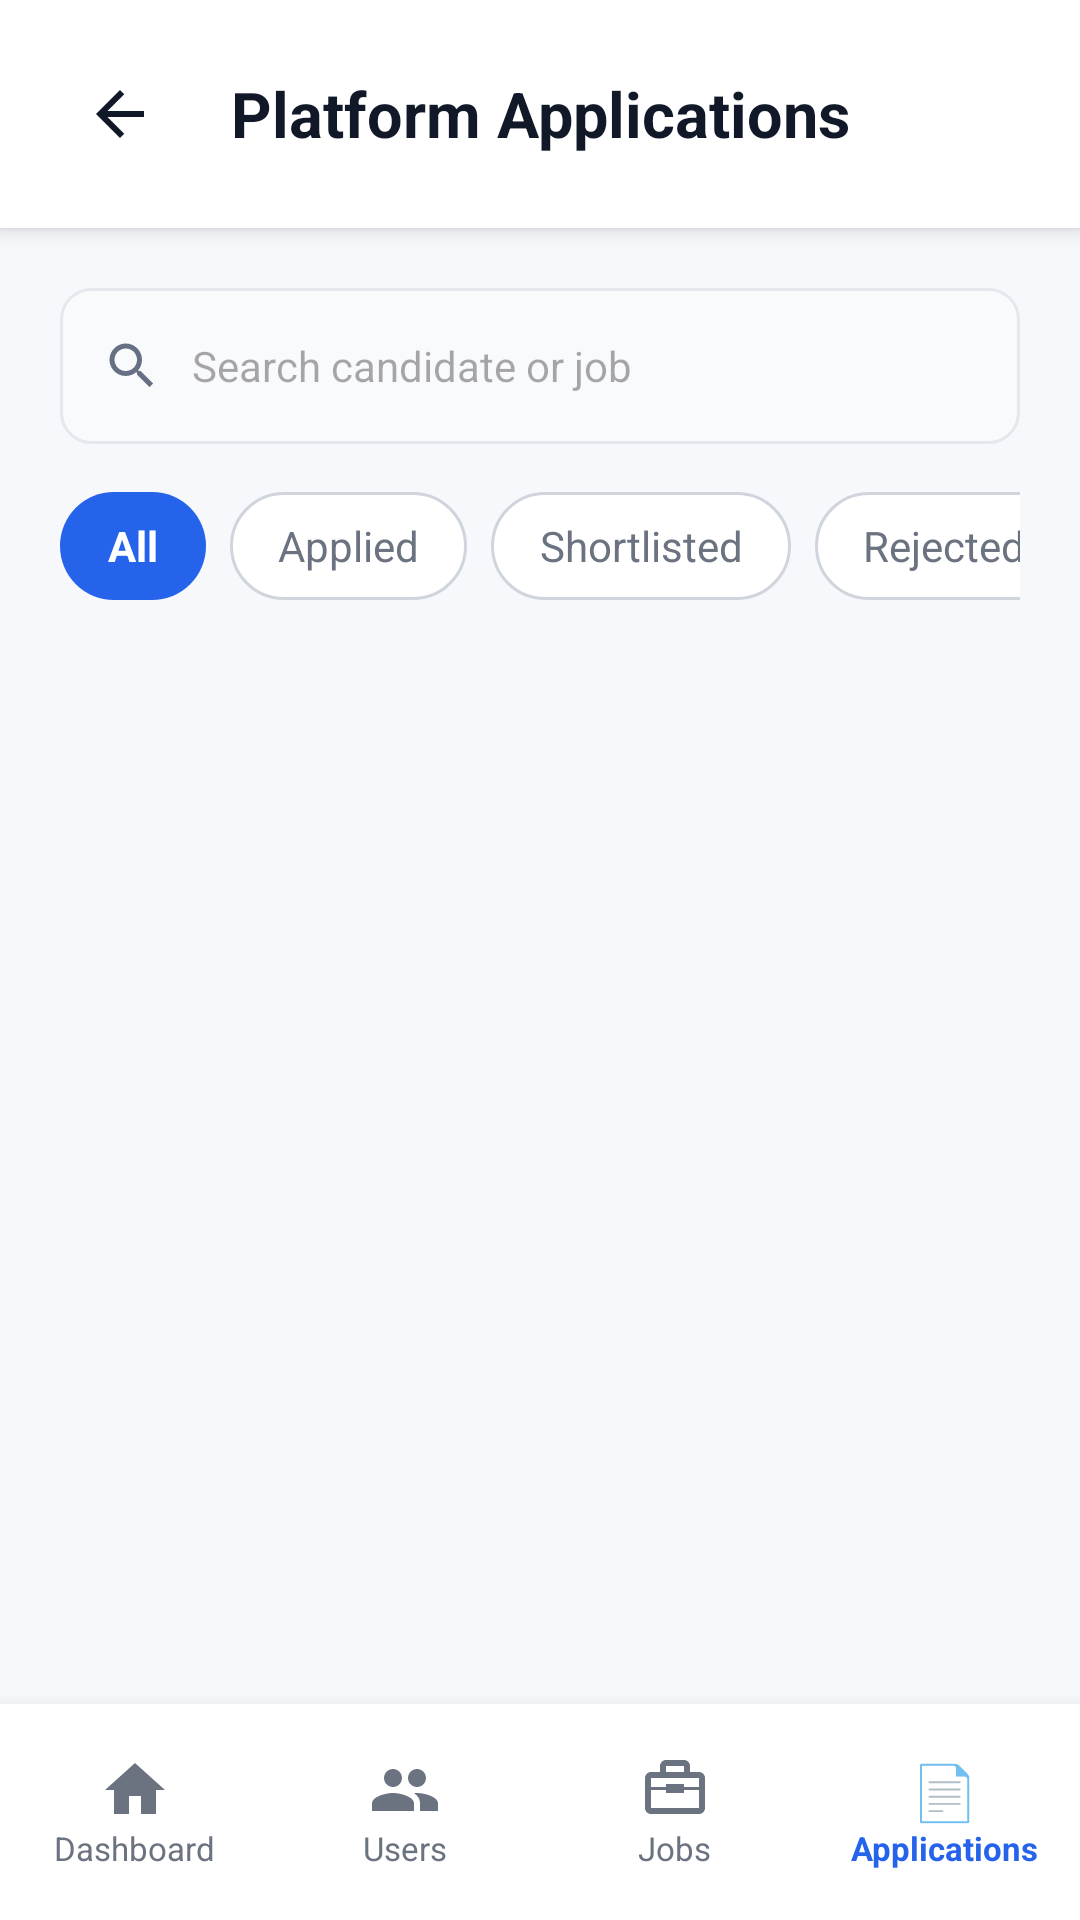

Icons on this 1080px×1920px Android screen, each with the point to tap as (x=x, y=y):
Back: (x=120, y=114)
recruiter dashboard briefcase: (x=675, y=1787)
recruiter dashboard people: (x=405, y=1790)
